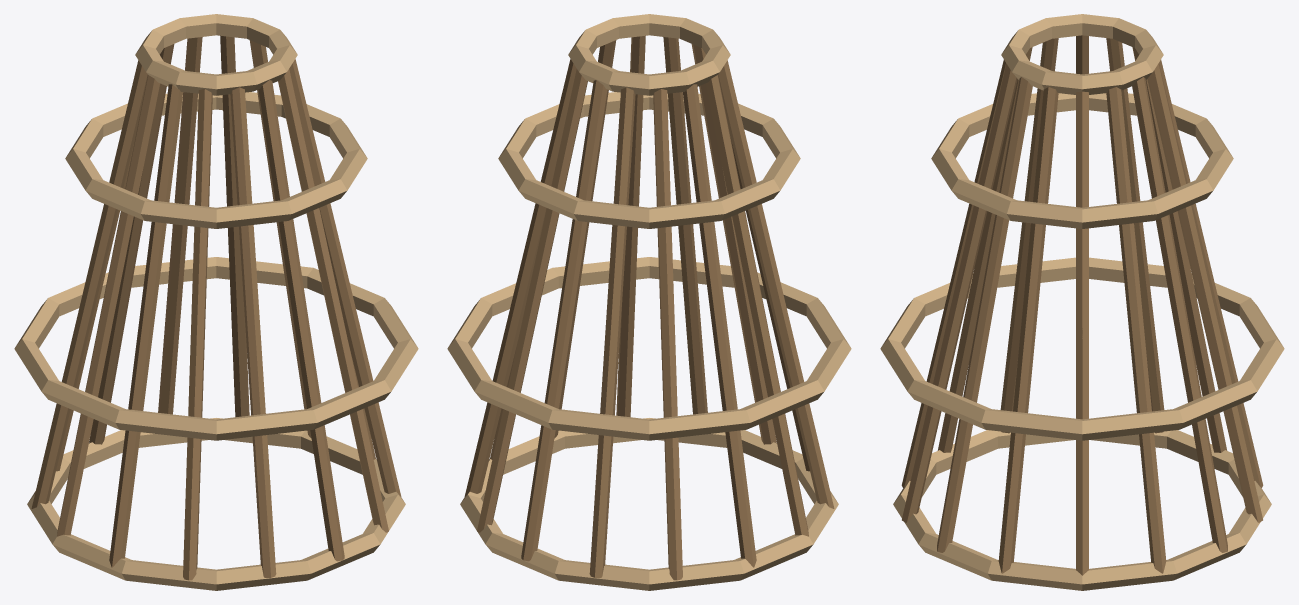
The model's file is campaign_fish_trap.glb.
3 views of the same model, side by side, from view 1: azimuth 30°, elevation 25°; view 2: azimuth 150°, elevation 25°; view 3: azimuth 270°, elevation 25° (orthographic).
Parts seen in each view (by area): view 1: campaign_fish_trap; view 2: campaign_fish_trap; view 3: campaign_fish_trap.
Boxes of the visible parts, <box> form: campaign_fish_trap: <box>14,14,418,590</box>; campaign_fish_trap: <box>447,14,851,590</box>; campaign_fish_trap: <box>880,14,1284,590</box>.
Size of the model in its own units: 0.636 by 0.8142 by 0.636.
